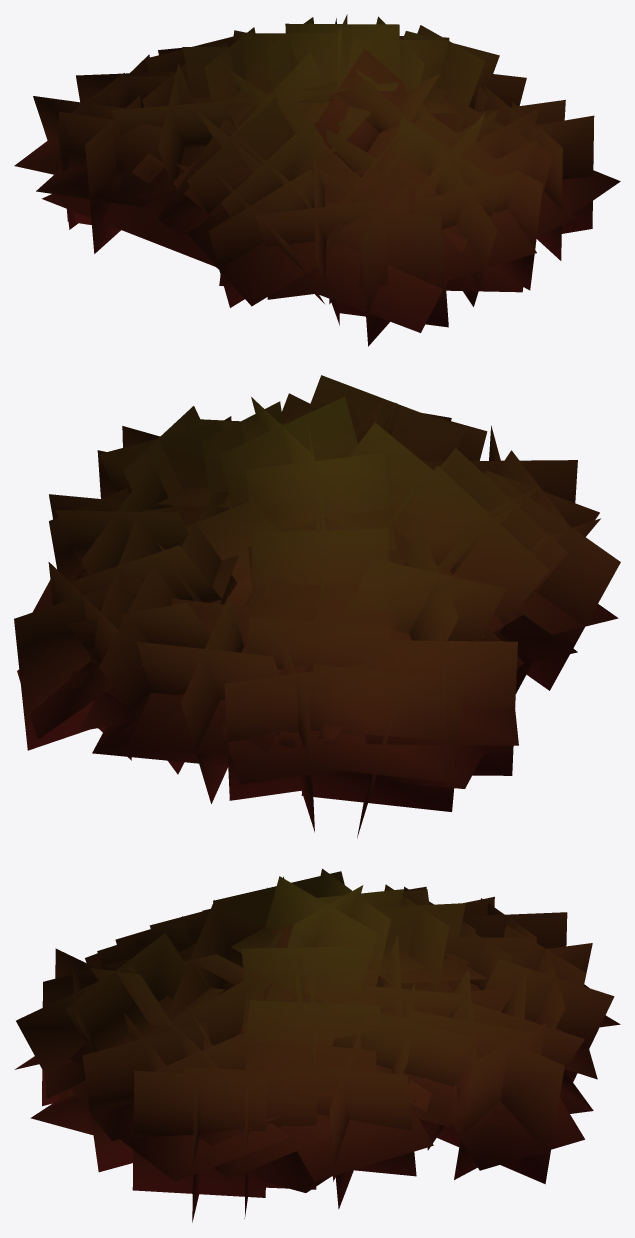
Rendered from FlowerBush_01.fbx.
3 renders of one model, top to bottom at view 1: azimuth 30°, elevation 25°; view 2: azimuth 150°, elevation 25°; view 3: azimuth 270°, elevation 25°, orthographic. The views are drawn at different scales.
Parts seen in each view (by area): view 1: TEM_Flower_Bush_01A_LOD0; view 2: TEM_Flower_Bush_01A_LOD0; view 3: TEM_Flower_Bush_01A_LOD0.
Boxes of the visible parts, x1,y1,x2,y2 form: TEM_Flower_Bush_01A_LOD0: (14,14,620,346); TEM_Flower_Bush_01A_LOD0: (14,375,620,838); TEM_Flower_Bush_01A_LOD0: (14,868,620,1222).
Bounding box in the file's own units: 354 × 177 × 379.
